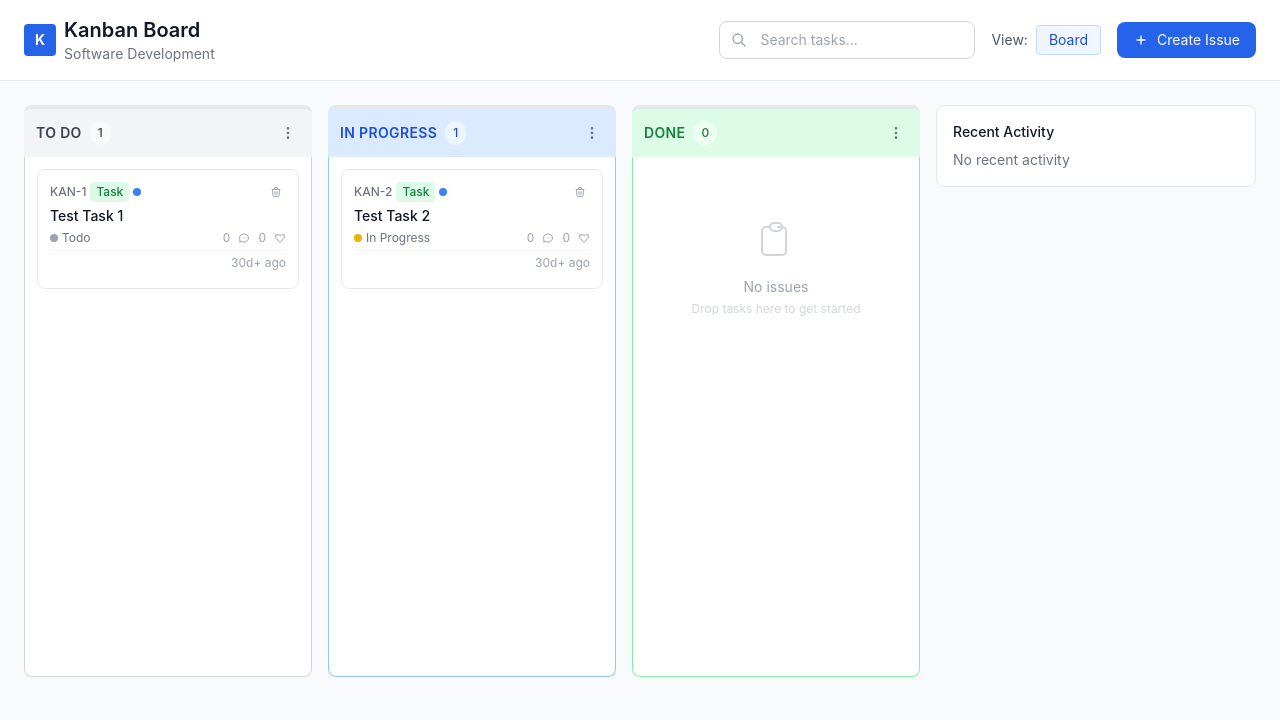
Test: Board Component › should clear search when clear button is clicked
Type "test" into the field with placeholder "Search tasks...". click: (847, 40)
box: [719,21,975,59]
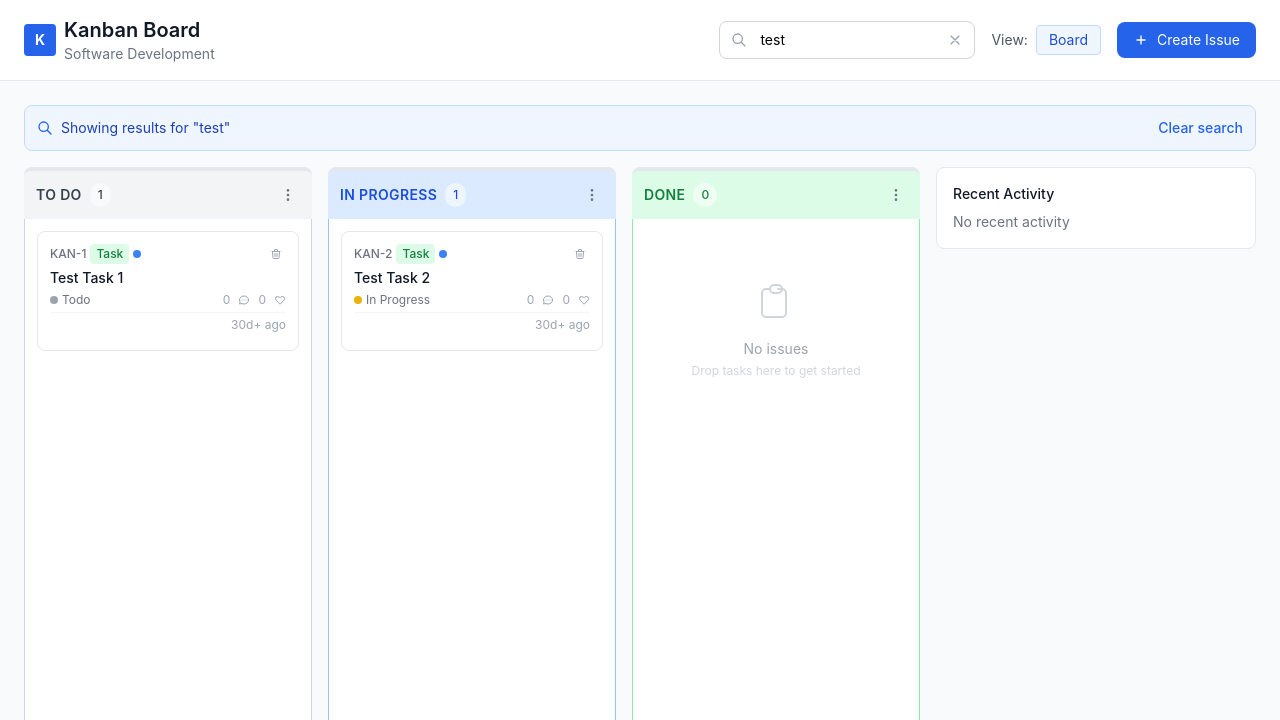
Now the button "Clear search" is shown
Click the button "Clear search". click: click(1201, 128)
box: [1158,118,1243,138]
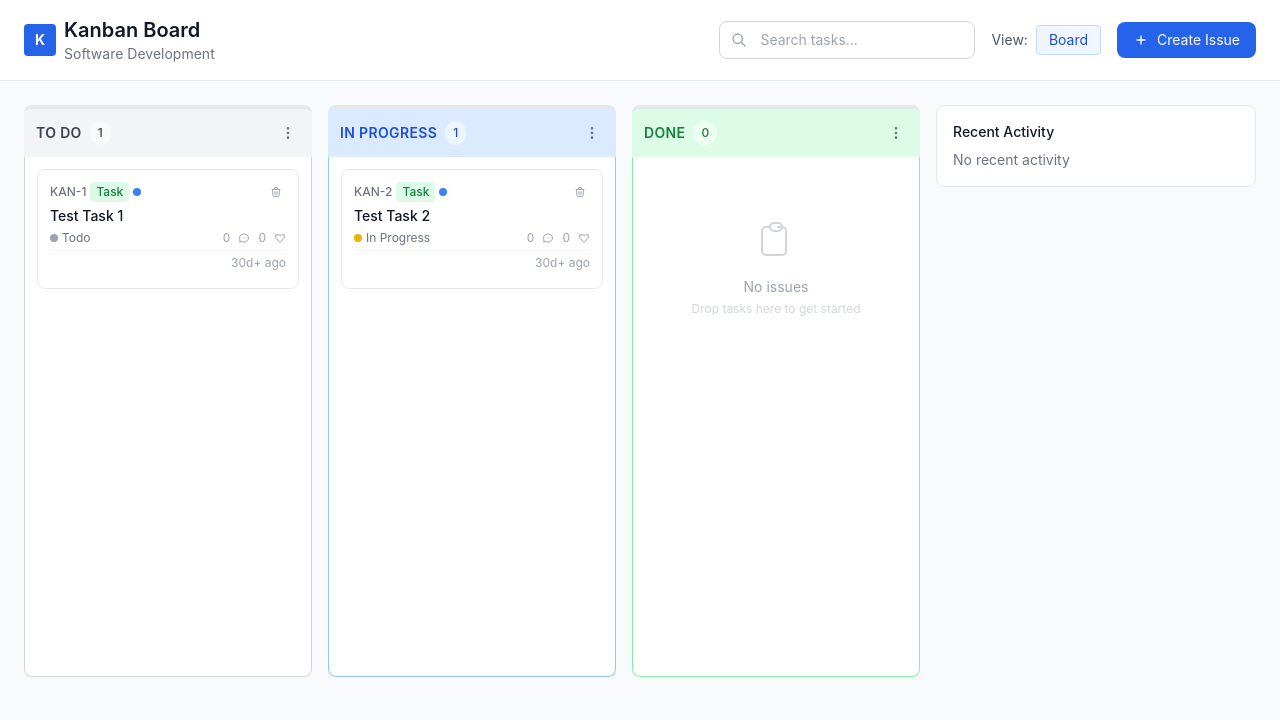
Now the field with placeholder "Search tasks..." is empty, box [719,21,975,59]
Now the text "Showing results for \"test\"" is gone
